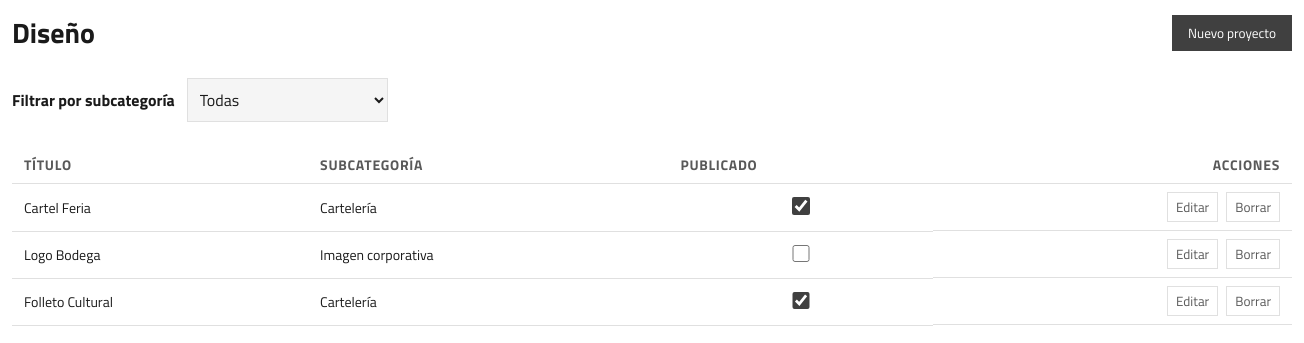
it: AdminDesign › oculta la reordenación sin filtro (no hay orden global de diseño)
This screenshot has width=1304, height=343.
Expected: the cell "Cartel Feria" is shown, [12,184,308,231]
Step 1. Select "Cartelería" in the dropdown labelled "Filtrar por subcategoría" → {"x": 287, "y": 100}, box [187,78,388,122]
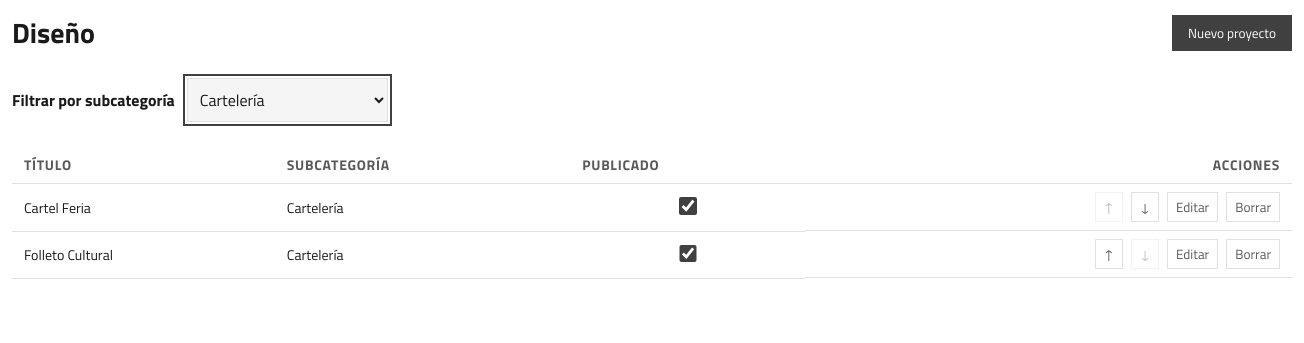
Now the button named "Subir Cartel Feria" is shown, box [1095,192,1123,222]
Now the button named "Bajar Folleto Cultural" is shown, box [1131,239,1159,269]
